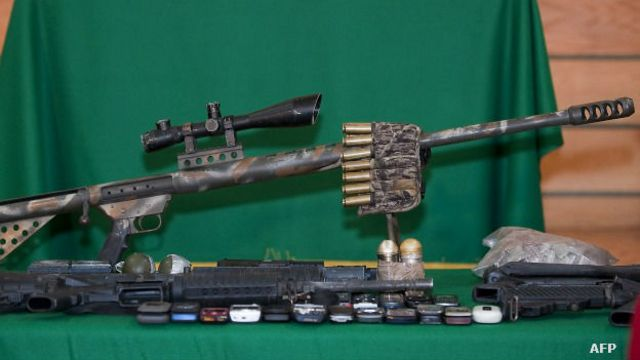Arma Real: (1, 99, 634, 259)
